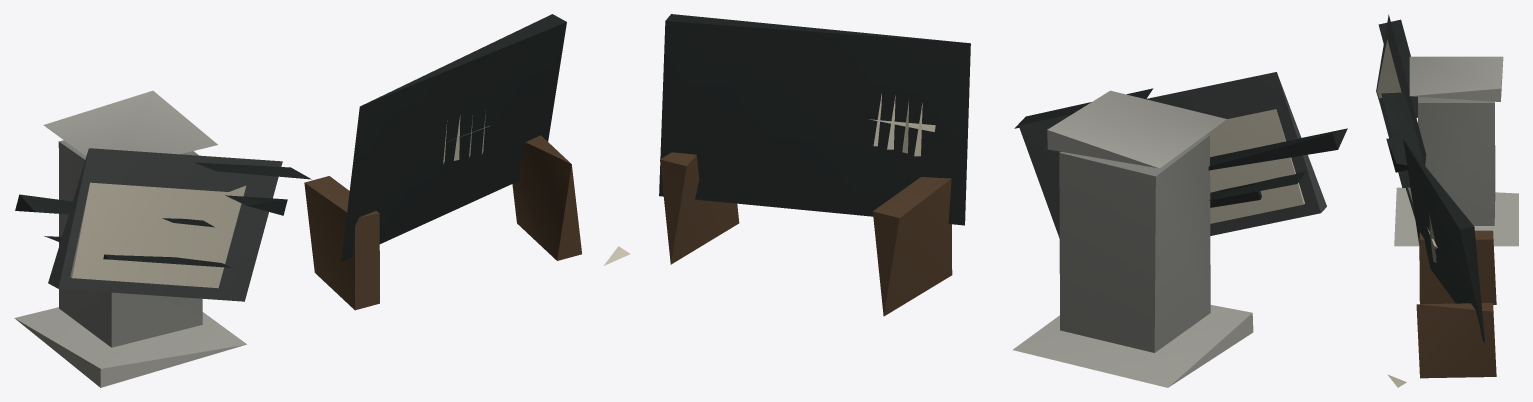
The model's file is stencil_post_b_lod2.glb.
3 renders of one model, left to right at view 1: azimuth 30°, elevation 25°; view 2: azimuth 150°, elevation 25°; view 3: azimuth 270°, elevation 25°, orthographic. The views are drawn at different scales.
Parts seen in each view (by area): view 1: Surface.001; view 2: Surface.001; view 3: Surface.001.
Part boxes in pixels (x1,y1,x2,y2): Surface.001: [14, 14, 630, 387]; Surface.001: [659, 14, 1347, 387]; Surface.001: [1376, 14, 1518, 387].
Bounding box in the file's own units: 5.01 × 1.96 × 1.38.
